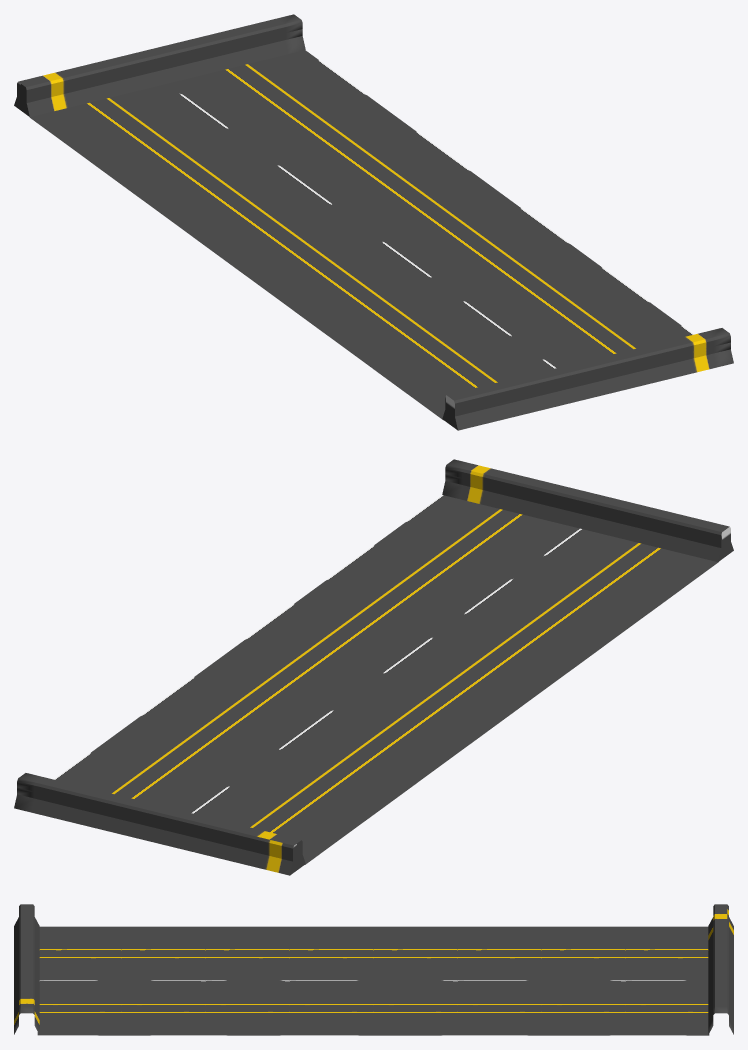
The model's file is Road_ConcreteBarrier_1.fbx.
3 renders of one model, top to bottom at view 1: azimuth 30°, elevation 25°; view 2: azimuth 150°, elevation 25°; view 3: azimuth 270°, elevation 25°, orthographic. The views are drawn at different scales.
Visible parts, largest first — view 1: Road_ConcreteBarrier_1; view 2: Road_ConcreteBarrier_1; view 3: Road_ConcreteBarrier_1.
Part boxes in pixels (x1=…): Road_ConcreteBarrier_1: x1=14, y1=14, x2=733, y2=430; Road_ConcreteBarrier_1: x1=14, y1=459, x2=733, y2=875; Road_ConcreteBarrier_1: x1=14, y1=904, x2=733, y2=1035.
Bounding box in the file's own units: 76.93 × 7.33 × 214.
